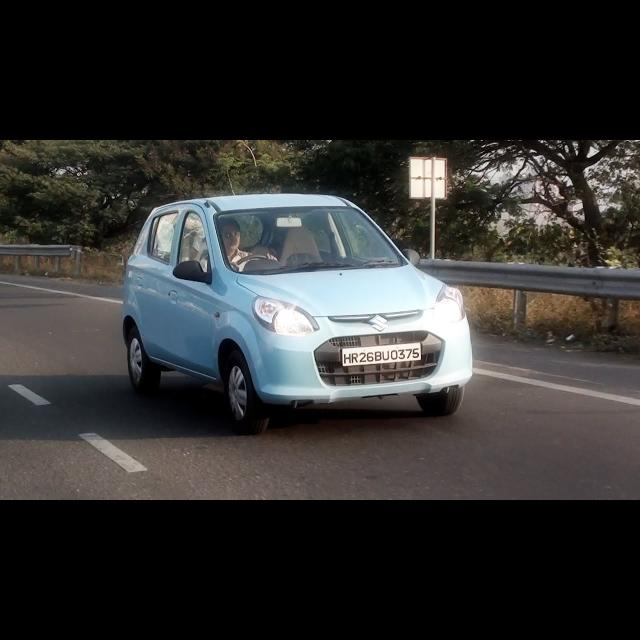number-plate: (341, 342, 423, 366)
vehicles: (124, 190, 475, 435)
